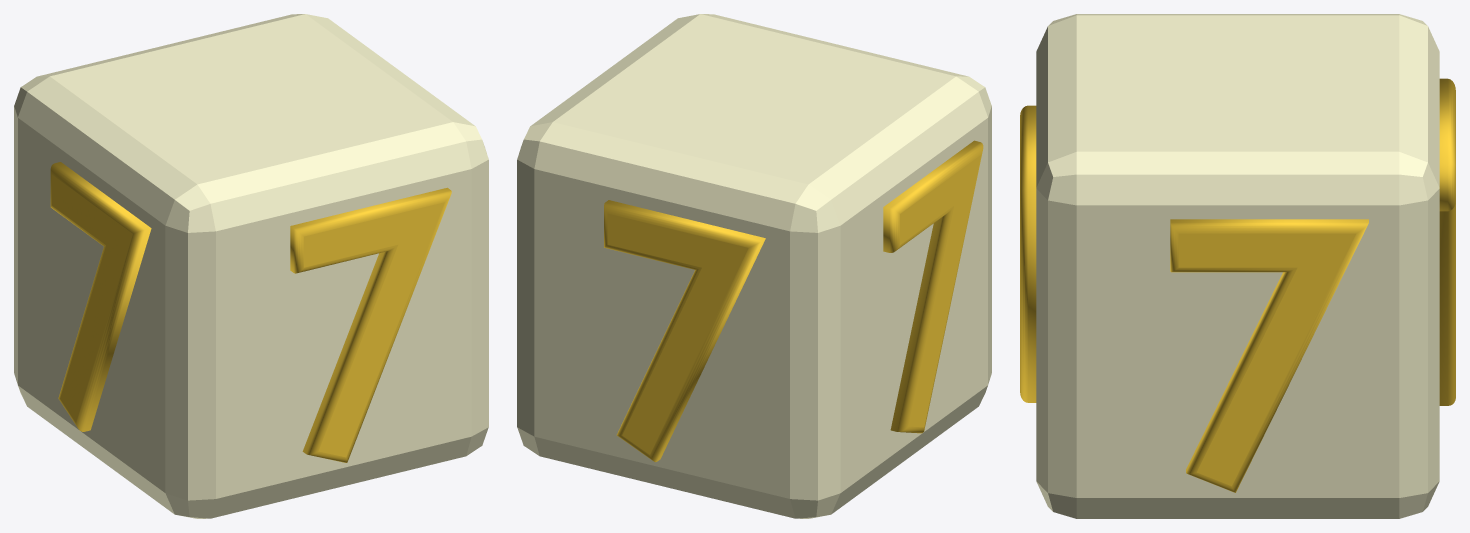
3 renders of one model, left to right at view 1: azimuth 30°, elevation 25°; view 2: azimuth 150°, elevation 25°; view 3: azimuth 270°, elevation 25°, orthographic. The views are drawn at different scales.
Visible parts, largest first — view 1: 7; view 2: 7; view 3: 7.
Part boxes in pixels (x1,y1,x2,y2): 7: (14,14,488,518); 7: (517,14,991,518); 7: (1020,14,1455,518).
Bounding box in the file's own units: 216 × 200 × 216.
